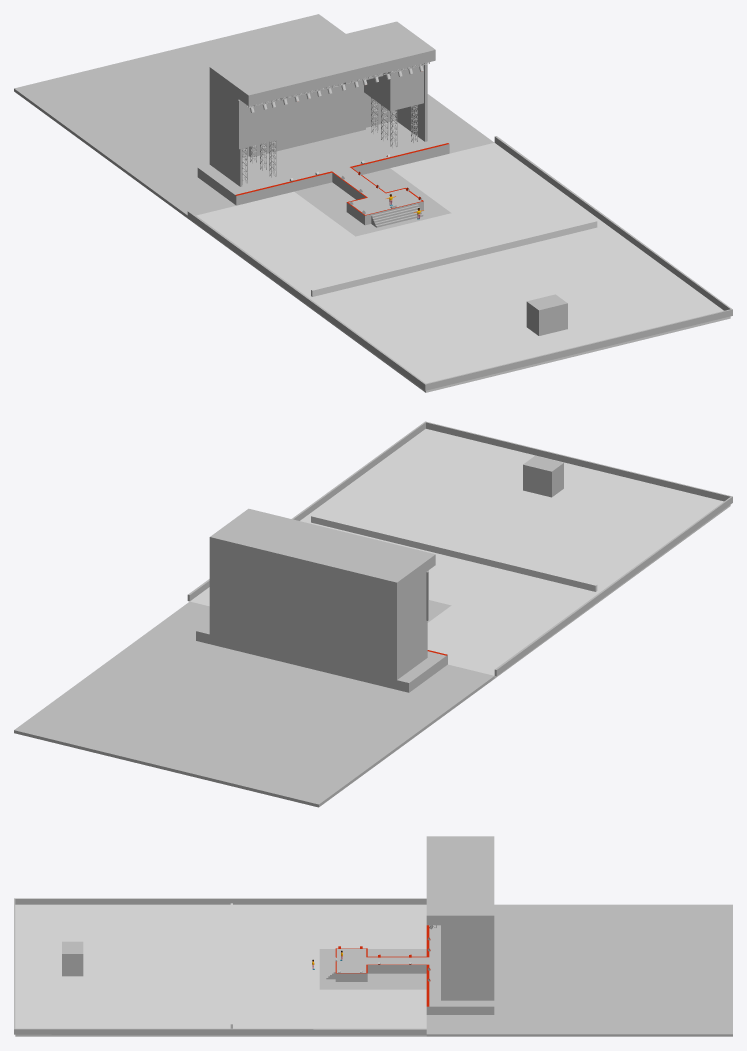
Rendered from JackyWuStage.fbx.
3 renders of one model, top to bottom at view 1: azimuth 30°, elevation 25°; view 2: azimuth 150°, elevation 25°; view 3: azimuth 270°, elevation 25°, orthographic. The views are drawn at different scales.
Visible parts, largest first — view 1: Plane.014, Plane.010, Plane.008, Plane.003, Plane.009, Plane.011, Plane.006, Plane.007, Plane.002, Plane.015, Plane.016, Plane.001; view 2: Plane.008, Plane.014, Plane.003, Plane.010, Plane.011, Plane.006, Plane.009, Plane.015, Plane.016; view 3: Plane.008, Plane.014, Plane.010, Plane.003, Plane.011, Plane.009, Plane.002, Plane.016, Plane.015.
Boxes of the visible parts, x1,y1,x2,y2 form: Plane.014: (301,224,730,392); Plane.010: (189,143,605,301); Plane.008: (14,14,494,219); Plane.003: (209,21,435,186); Plane.009: (197,120,449,225); Plane.011: (187,136,732,390); Plane.006: (249,81,365,157); Plane.007: (237,63,423,149); Plane.002: (294,168,451,236); Plane.015: (311,220,597,296); Plane.016: (526,294,567,335); Plane.001: (371,204,423,227); Plane.008: (14,601,494,807); Plane.014: (301,429,730,597); Plane.003: (209,508,435,679); Plane.010: (190,520,605,678); Plane.011: (187,421,732,676); Plane.006: (244,556,358,670); Plane.009: (196,621,447,692); Plane.015: (311,515,597,591); Plane.016: (523,455,563,497); Plane.008: (426,904,732,1036); Plane.014: (15,904,232,1036); Plane.010: (233,904,426,1036); Plane.003: (426,836,494,1000); Plane.011: (14,898,426,1034); Plane.009: (335,925,494,1014); Plane.002: (319,949,426,989); Plane.016: (62,941,83,976); Plane.015: (230,903,232,1028).
Size of the model in its own units: 11509 by 4974 by 1748.
